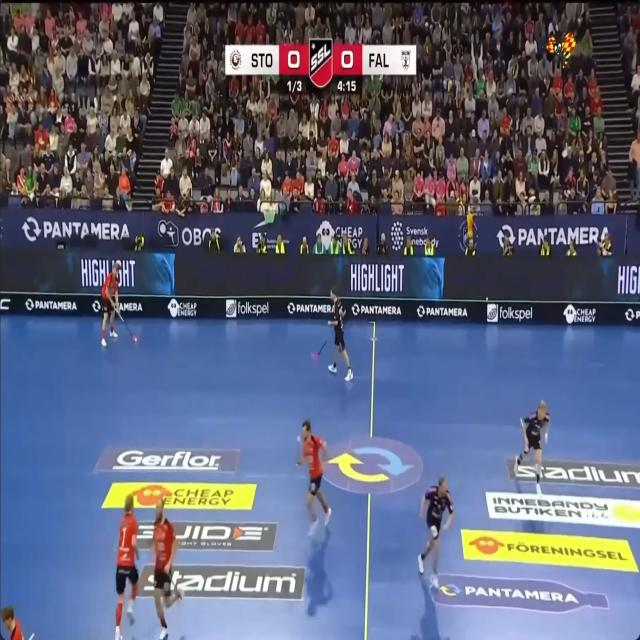Balls: (133, 336, 137, 341)
player: (152, 500, 182, 639), (418, 477, 454, 588), (297, 420, 331, 536), (514, 401, 550, 494), (115, 494, 138, 639), (328, 287, 353, 379), (101, 261, 121, 346), (2, 605, 23, 639)
stick: (118, 312, 137, 342), (118, 313, 134, 336), (312, 341, 327, 359), (318, 341, 327, 355), (29, 634, 34, 639)
